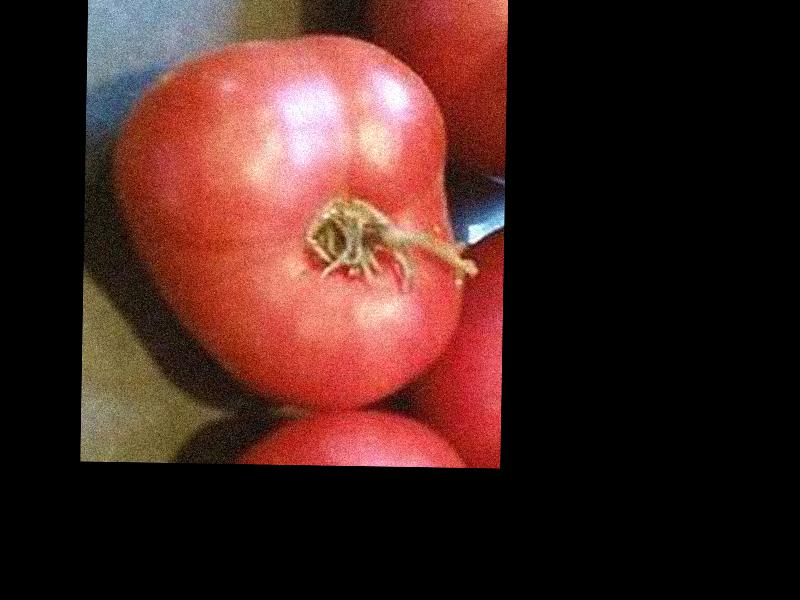Tomato: (111, 31, 466, 408)
